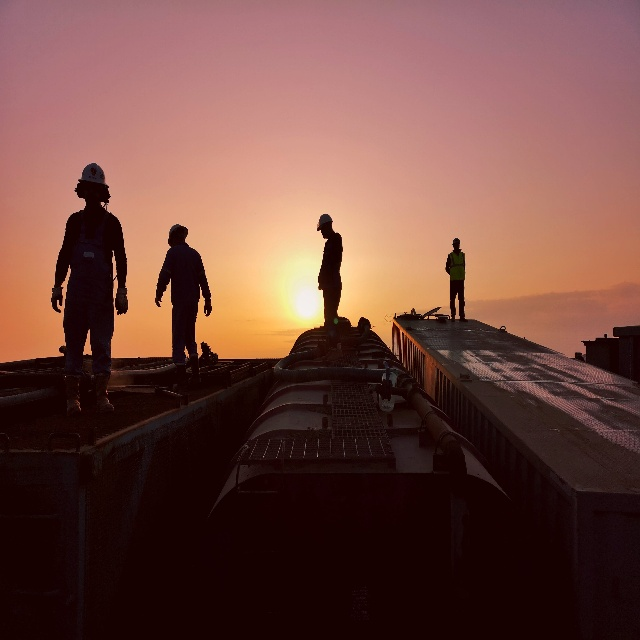Guantes: (114, 287, 128, 316), (50, 286, 64, 313), (204, 298, 212, 317), (155, 294, 162, 307)
